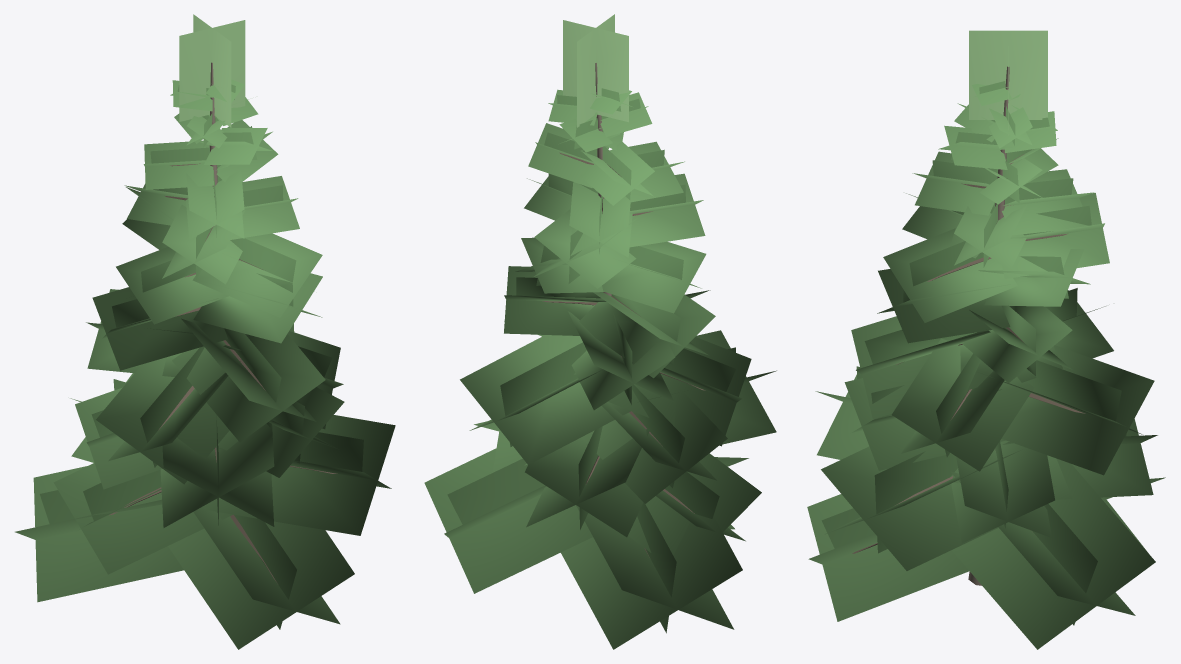
Rendered from tree_fir_a_lod0.glb.
3 views of the same model, side by side, from view 1: azimuth 30°, elevation 25°; view 2: azimuth 150°, elevation 25°; view 3: azimuth 270°, elevation 25° (orthographic). The views are drawn at different scales.
Visible parts, largest first — view 1: tree_fir_a_lod0; view 2: tree_fir_a_lod0; view 3: tree_fir_a_lod0.
Part boxes in pixels (x1,y1,x2,y2): tree_fir_a_lod0: [15, 14, 395, 649]; tree_fir_a_lod0: [424, 14, 776, 649]; tree_fir_a_lod0: [807, 30, 1165, 649].
Size of the model in its own units: 8.29 by 13.63 by 7.77.
